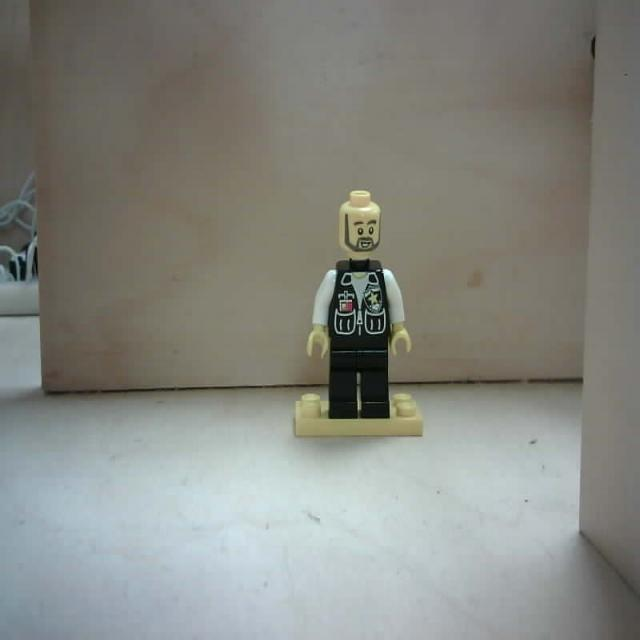Lego-People: (284, 185, 428, 448)
